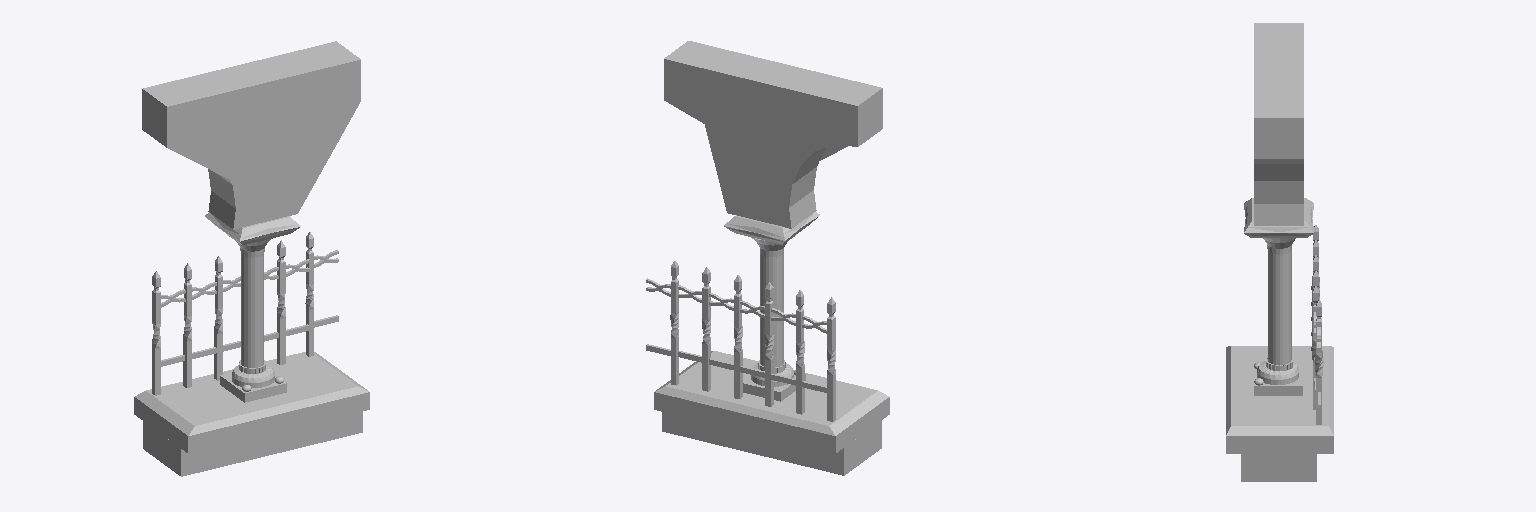
The model's file is back_inside.obj.
3 renders of one model, left to right at view 1: azimuth 30°, elevation 25°; view 2: azimuth 150°, elevation 25°; view 3: azimuth 270°, elevation 25°, orthographic.
Parts seen in each view (by area): view 1: polySurface11; view 2: polySurface11; view 3: polySurface11.
Part boxes in pixels (x1,y1,x2,y2): polySurface11: (134, 41, 369, 476); polySurface11: (646, 41, 889, 475); polySurface11: (1226, 23, 1333, 481).
Bounding box in the file's own units: 6.76 × 11.64 × 3.11.